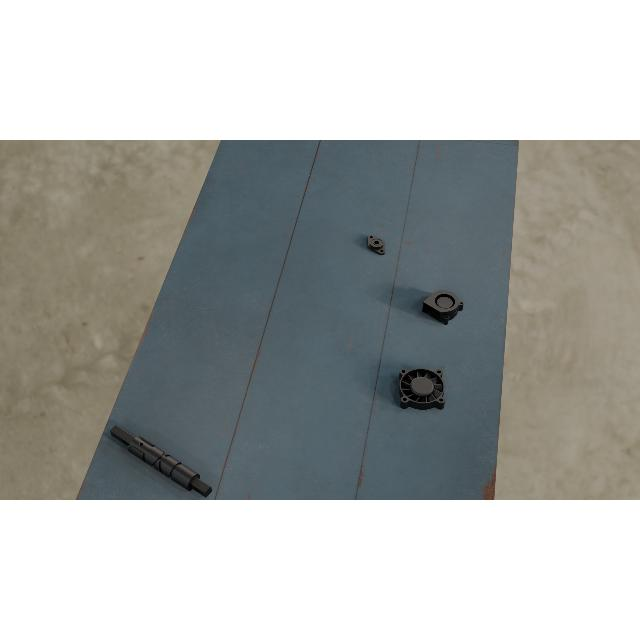Pieza1: (107, 418, 216, 499)
Pieza2: (363, 231, 391, 257)
Pieza3: (422, 286, 466, 326)
Pieza4: (398, 368, 446, 410)
